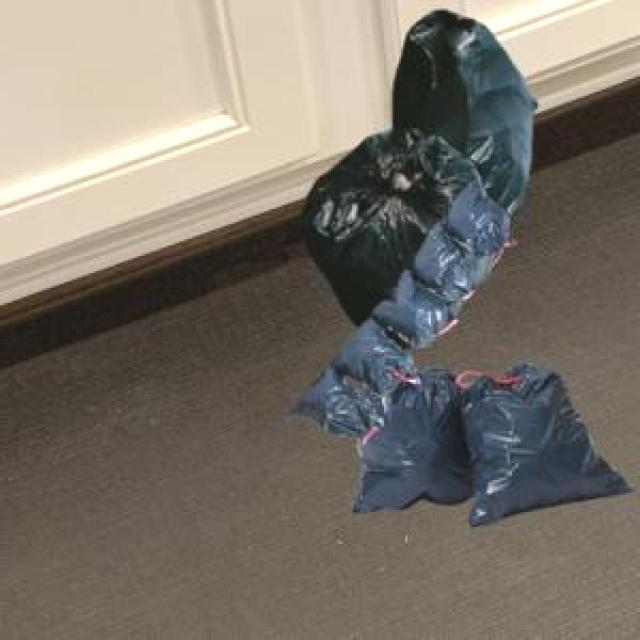Trashbag: (406, 18, 543, 181), (477, 367, 611, 517), (362, 376, 464, 512), (386, 278, 444, 345), (341, 326, 405, 386), (301, 371, 355, 436), (417, 225, 466, 292), (456, 190, 510, 246)
